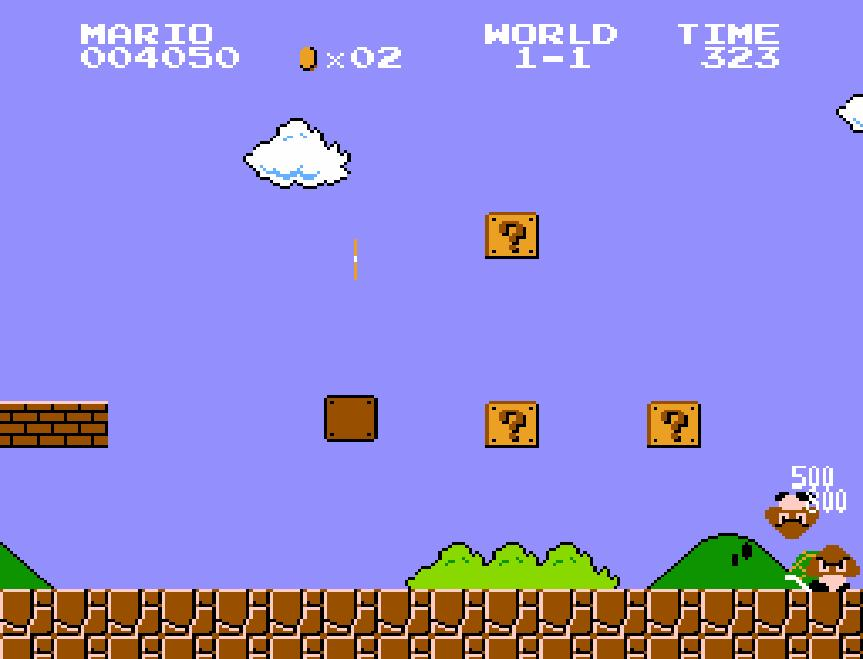little_mario: (379, 526, 437, 576)
